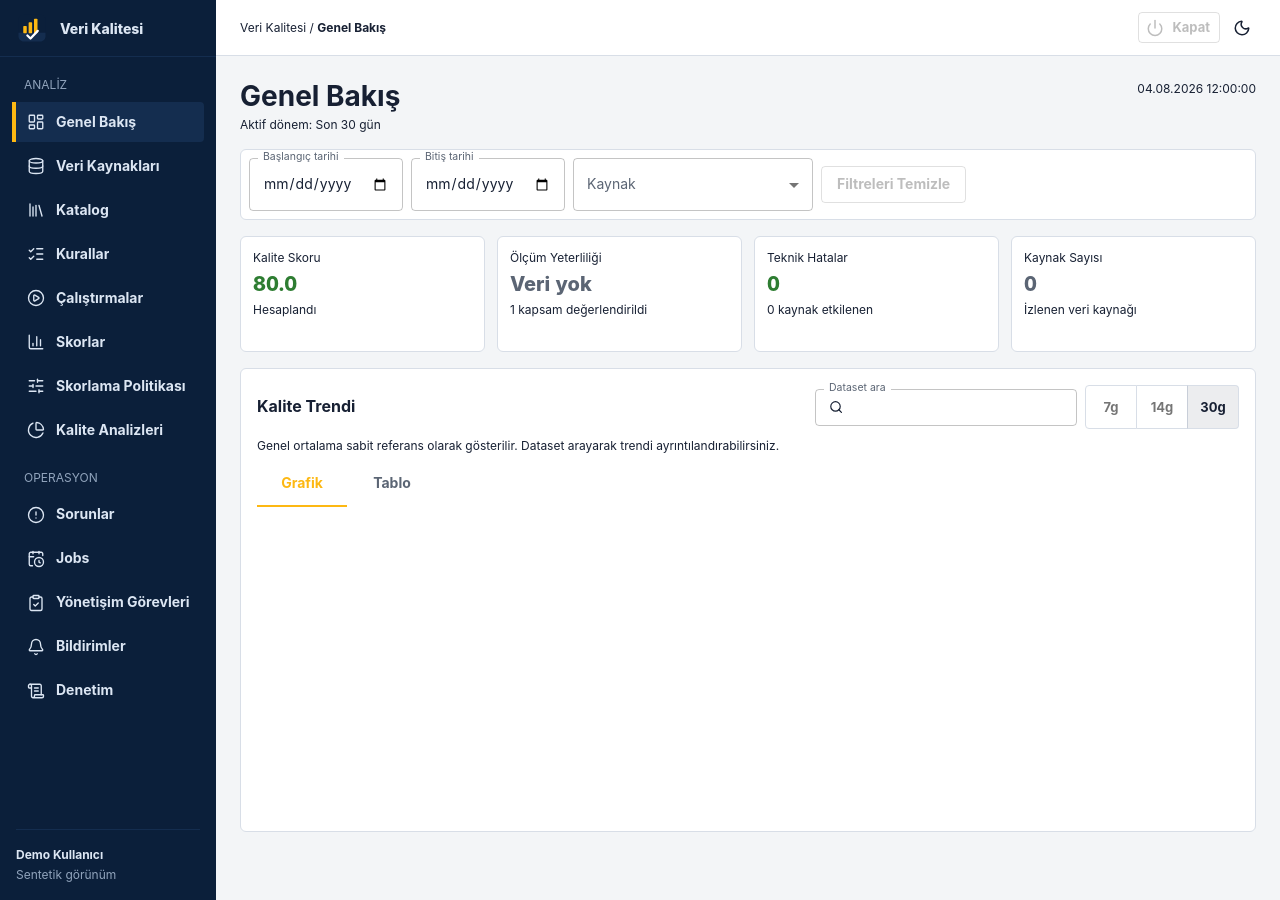
Test: Dashboard kalite trendi › arama girildiğinde yalnızca eşleşen datasetleri tablo ve grafiğe taşır
Type "müşteriler" into the field labelled "Dataset ara" at (960, 407), box x1=843 y1=388 x2=1077 y2=426
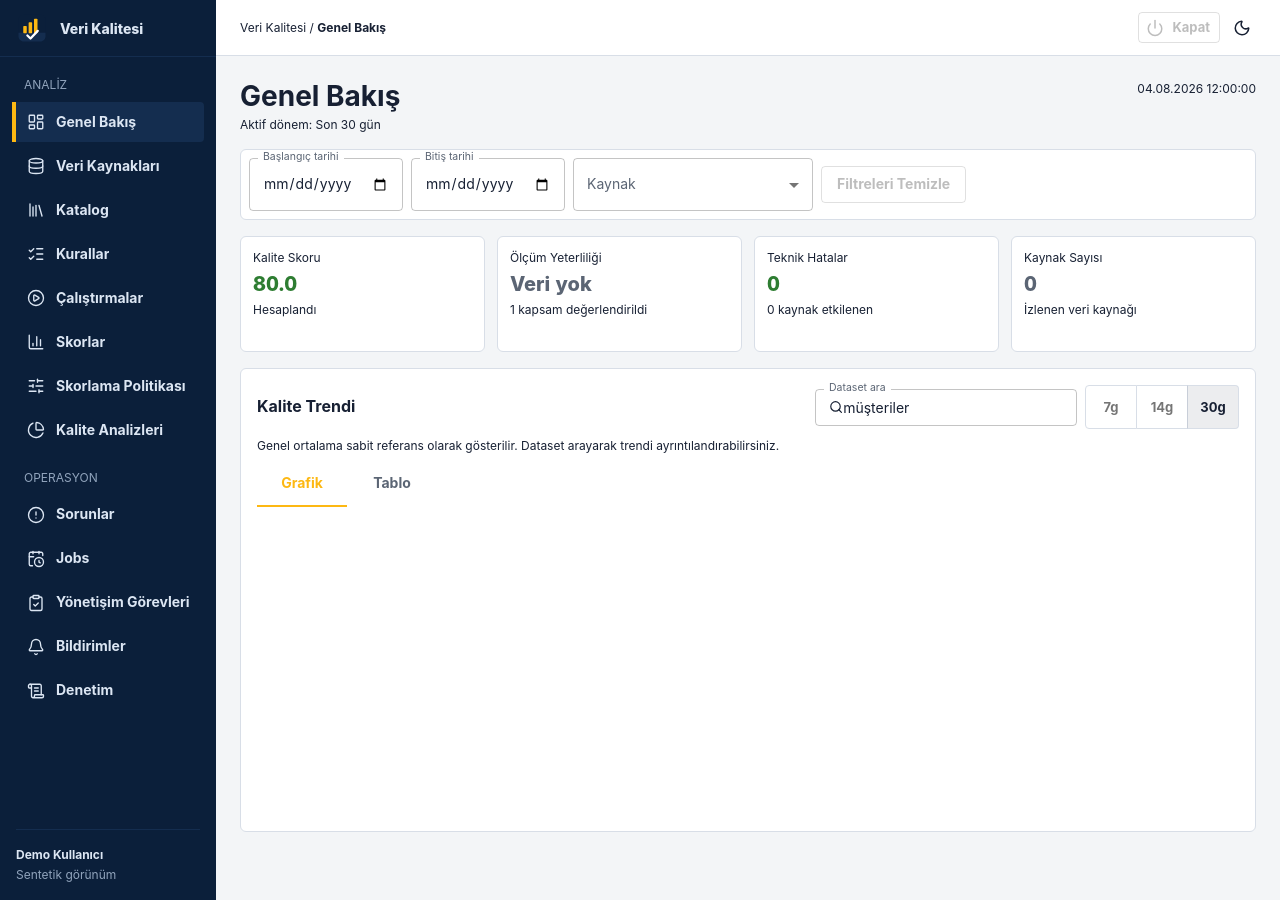
Click the tab "Tablo" at (392, 482), box x1=347 y1=458 x2=437 y2=506
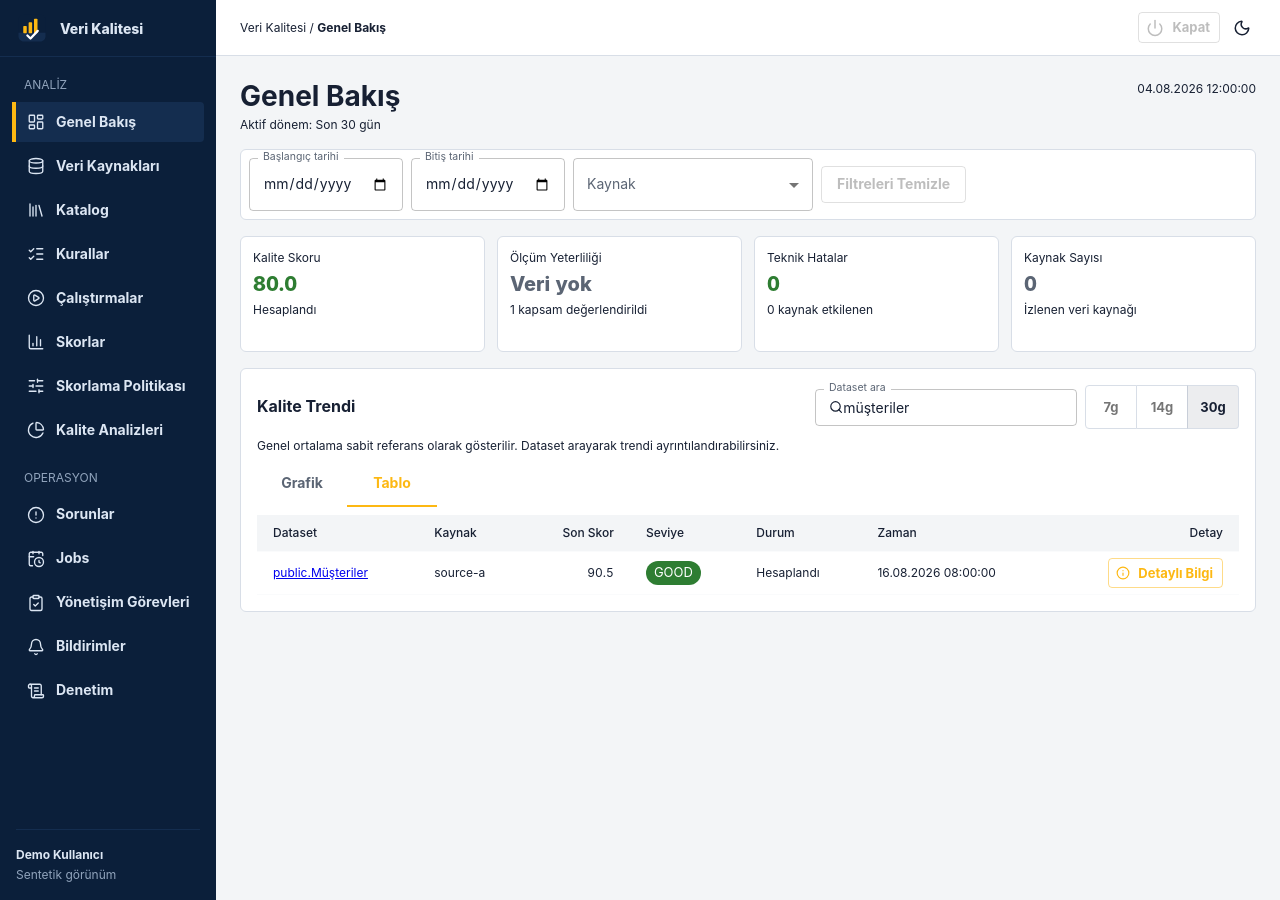
Expected: the table named "Kalite trend tablosu" is shown, x1=257 y1=514 x2=1239 y2=595
Expected: the link "public.Müşteriler" is shown, x1=273 y1=565 x2=368 y2=580
Expected: the text "90.5" is shown, x1=524 y1=552 x2=630 y2=595
